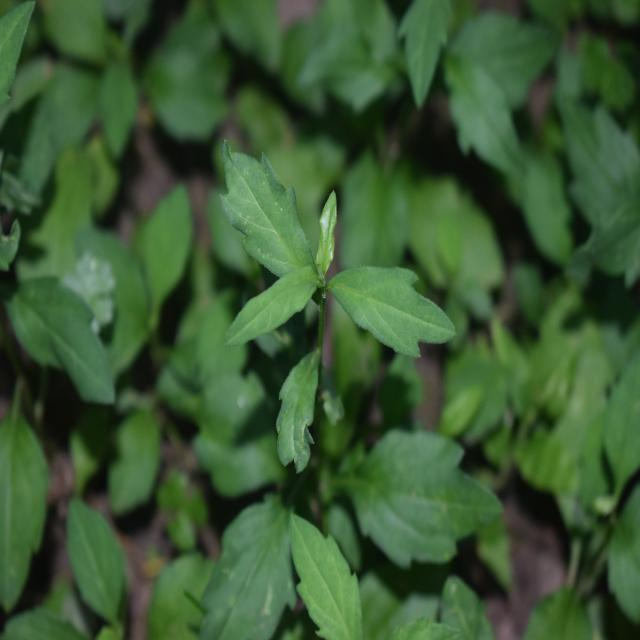Indian aster: (194, 149, 479, 602)
